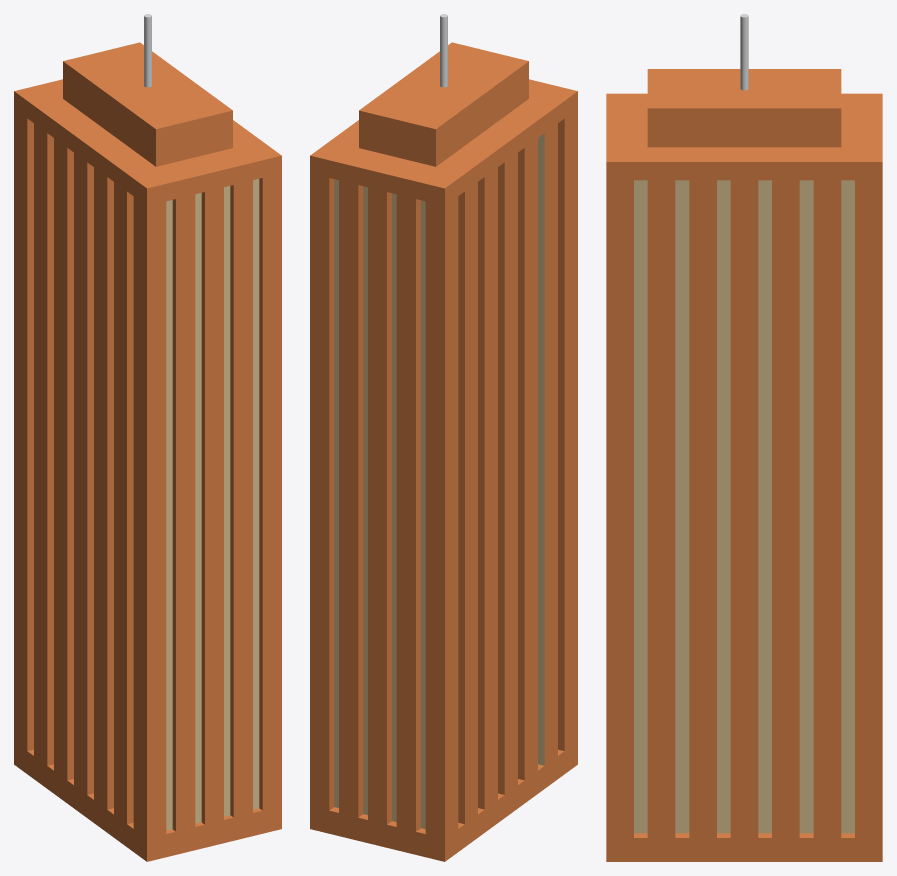
The model's file is skyscrapers.fbx.
3 views of the same model, side by side, from view 1: azimuth 30°, elevation 25°; view 2: azimuth 150°, elevation 25°; view 3: azimuth 270°, elevation 25° (orthographic). The views are drawn at different scales.
Visible parts, largest first — view 1: Cube, Cylinder; view 2: Cube, Cylinder; view 3: Cube, Cylinder.
Part boxes in pixels (x1,y1,x2,y2): Cube: (14, 42, 281, 861); Cylinder: (144, 14, 151, 87); Cube: (310, 42, 577, 861); Cylinder: (440, 14, 447, 87); Cube: (606, 69, 882, 861); Cylinder: (740, 14, 748, 90).
Size of the model in its own units: 2 by 11.07 by 3.42.
